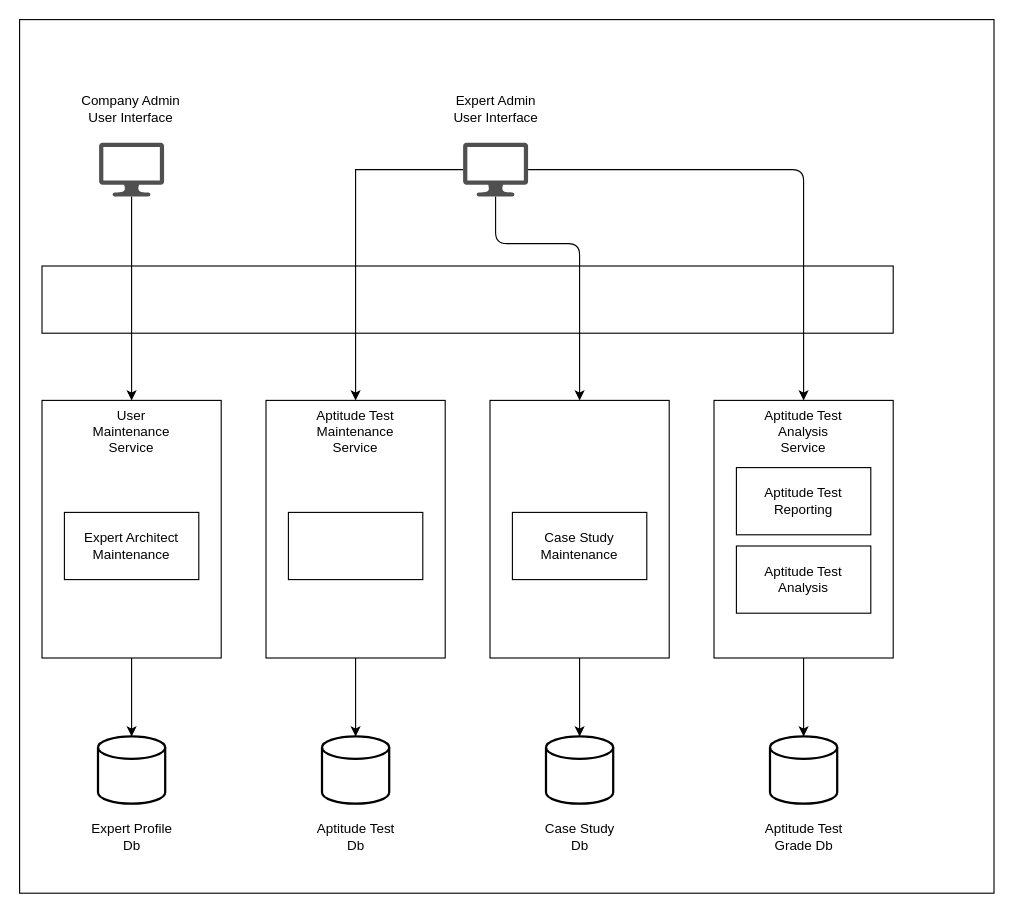
This 1014x913 diagram has some shape labels left out. The box of each missing label's shape, as (x1, y1, x2, y2) in pixels:
Admin API Gateway: (41, 265, 893, 333)
Aptitude Test Maintenance: (287, 511, 423, 580)
Case Study Maintenance Service: (489, 399, 669, 658)
